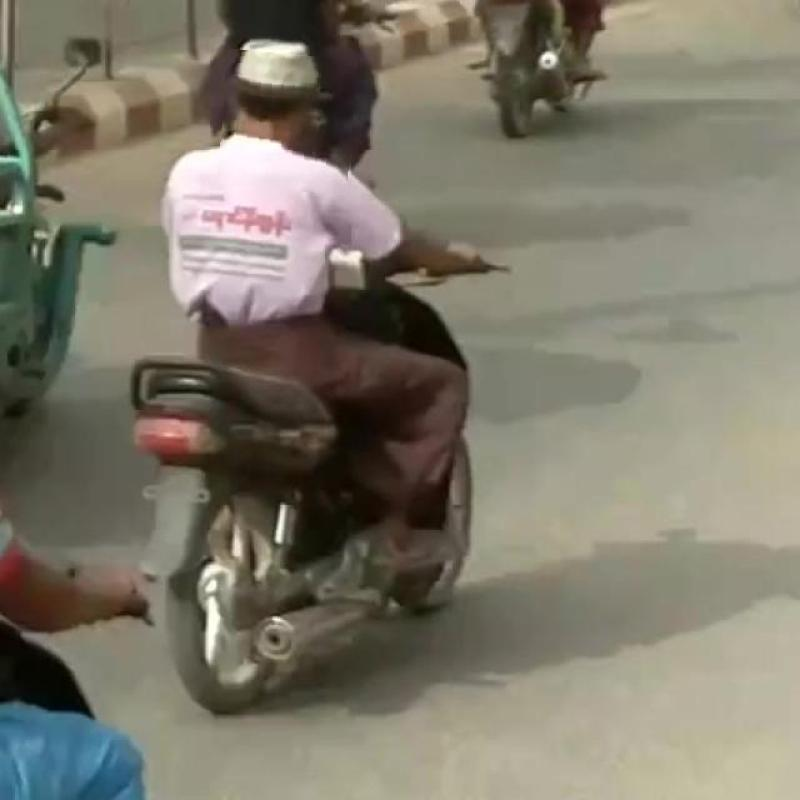nohelmet: (220, 52, 356, 193)
